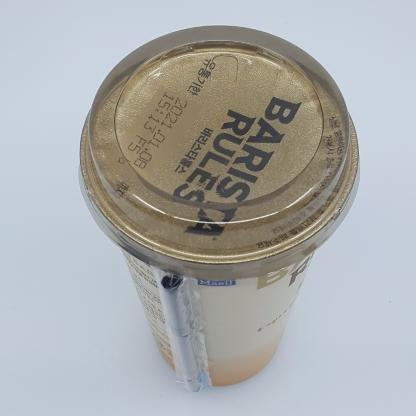------------------325ML: (78, 25, 360, 392)
